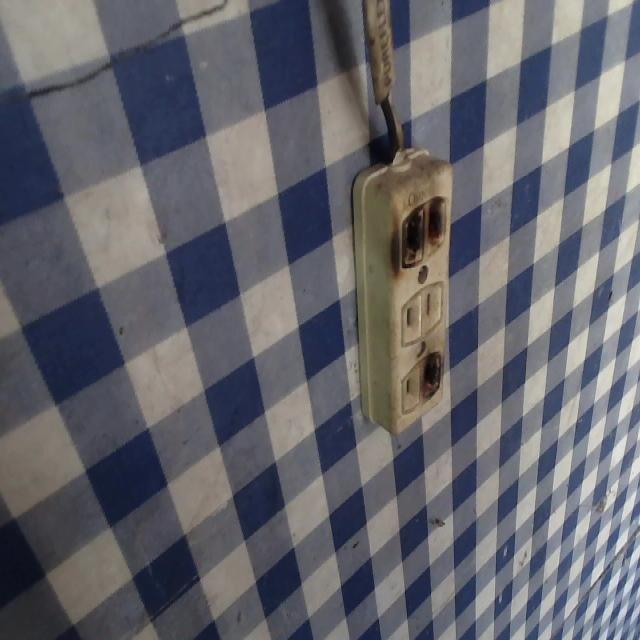-: (390, 189, 447, 275), (415, 344, 445, 405)
